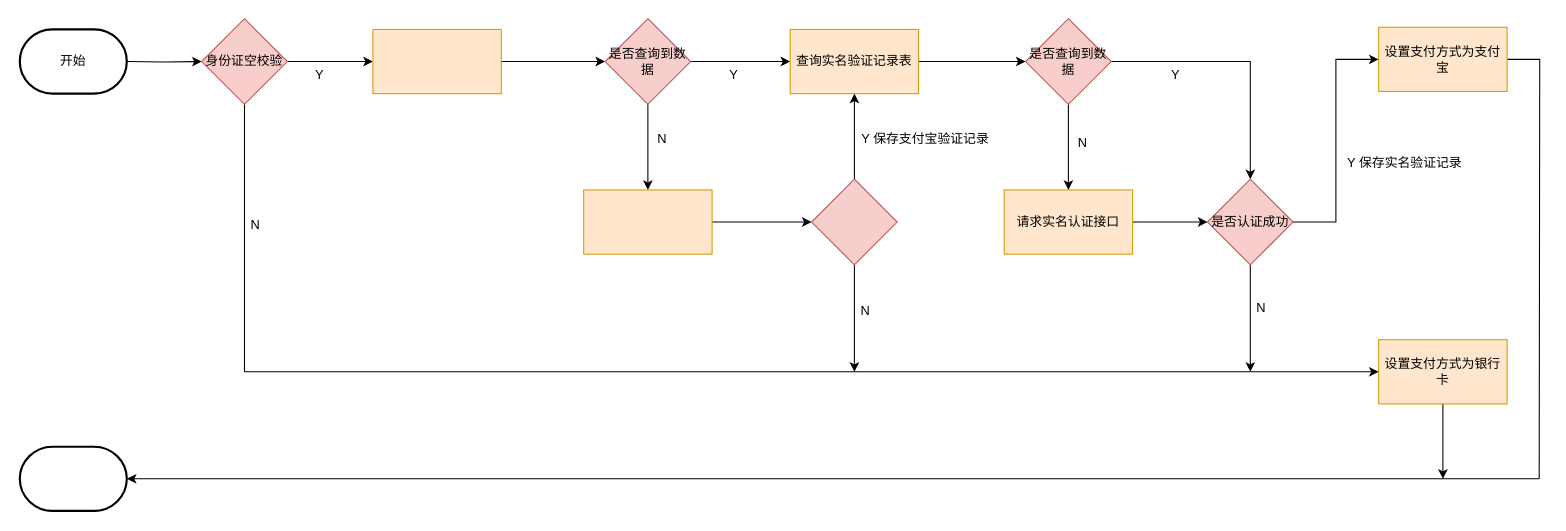
This 1566x531 diagram has some shape labels left out. Here are the shapes that lost their labels. From the top down, the box of each, then its label:
(372, 28, 501, 94): 查询支付宝账号验证成功的记录
(583, 189, 712, 254): 请求支付宝账号验证接口
(811, 178, 897, 265): 是否注册支付宝账号
(18, 445, 127, 511): 结束
